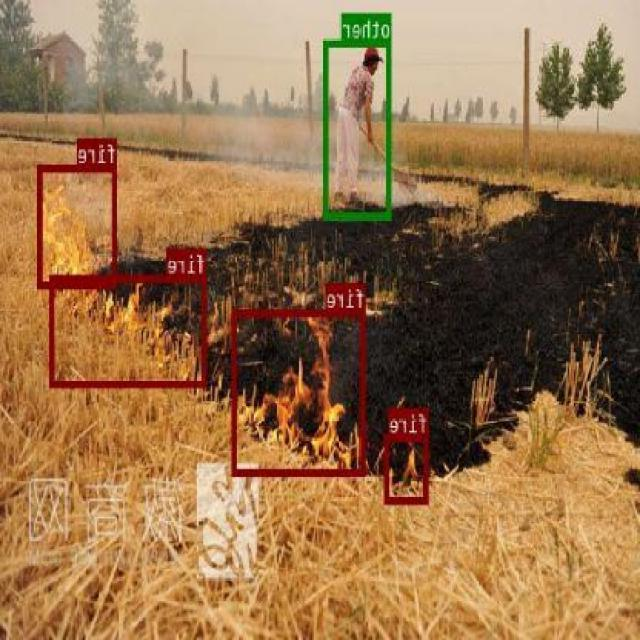Fire: (233, 308, 367, 474), (50, 272, 207, 386), (39, 164, 118, 288), (386, 434, 429, 502)
